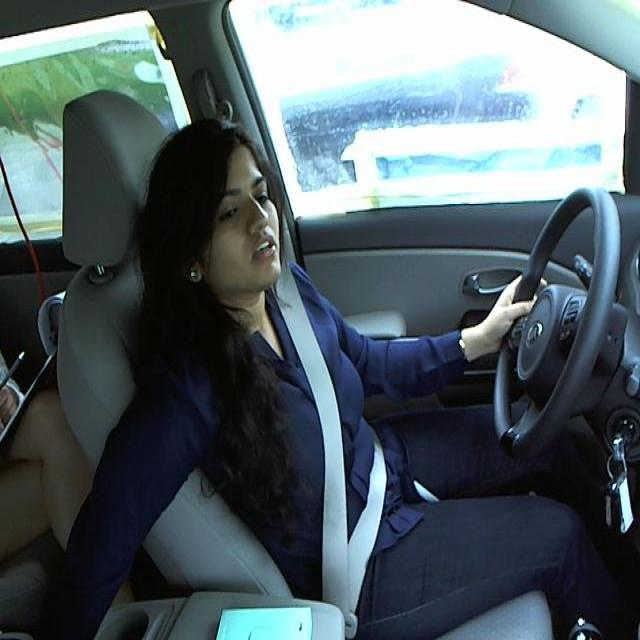seatbelt: (273, 305, 401, 580)
